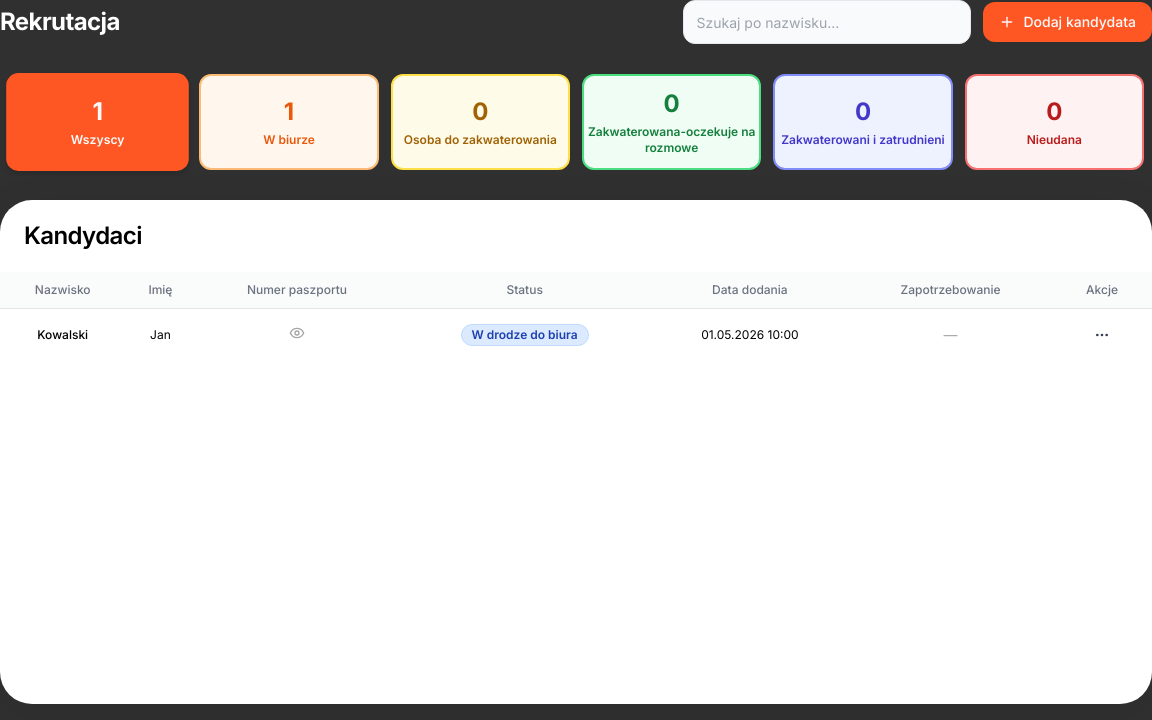
RecruitmentView › opens candidate detail dialog on candidate row click showing no passport photo when URL is absent
What coordinates should you click on to do the following:
click the text "Kowalski"
I would click on:
 (63, 334)
Its box is [0,308,126,360].
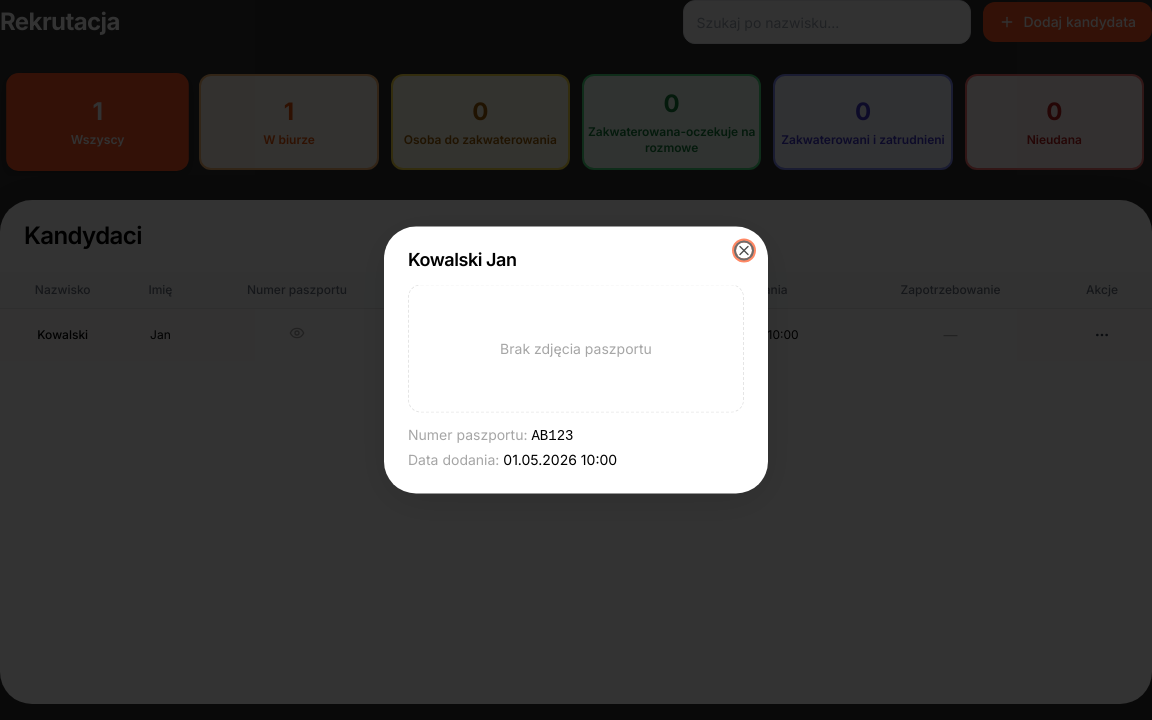
Now the text "Brak zdjęcia paszportu" is shown, box [408,284,744,412]
Now the text "Numer paszportu:" is shown, box [408,426,528,442]
